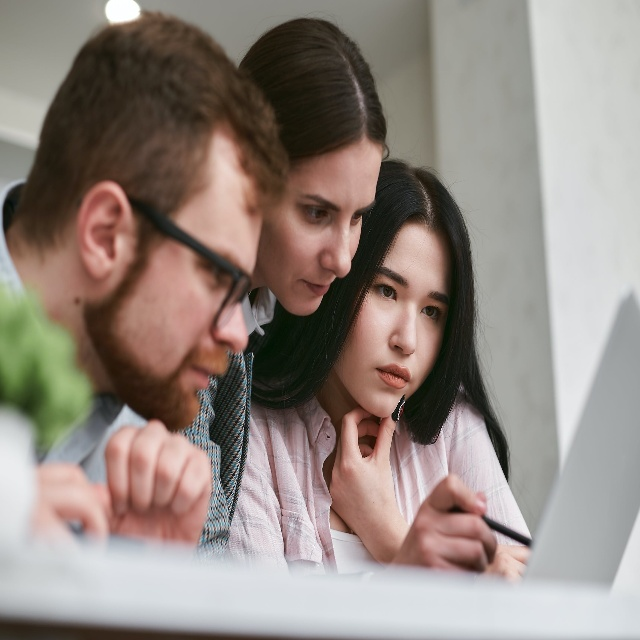Gafas: (215, 258, 256, 336)
Sin_guantes: (99, 420, 219, 549), (391, 470, 502, 578), (326, 406, 402, 549), (490, 541, 530, 582)
